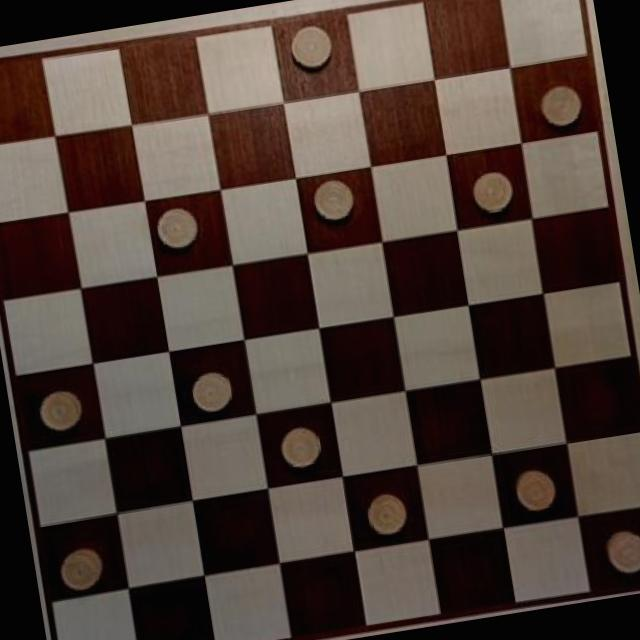BOARD: (0, 0, 640, 640)
white: (29, 380, 92, 438), (280, 19, 342, 77), (181, 361, 240, 421), (273, 418, 329, 477), (52, 539, 110, 595), (464, 162, 520, 218), (508, 462, 562, 518), (362, 484, 414, 542), (530, 79, 586, 131), (596, 517, 640, 579), (306, 172, 356, 224), (154, 203, 202, 254)
